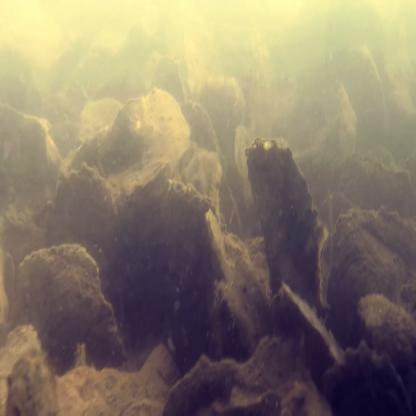Oyster-Closed: (247, 138, 328, 321), (68, 90, 190, 204), (166, 333, 332, 416), (18, 244, 126, 359), (47, 164, 124, 271), (322, 342, 413, 416), (354, 294, 416, 369), (146, 180, 210, 245)
